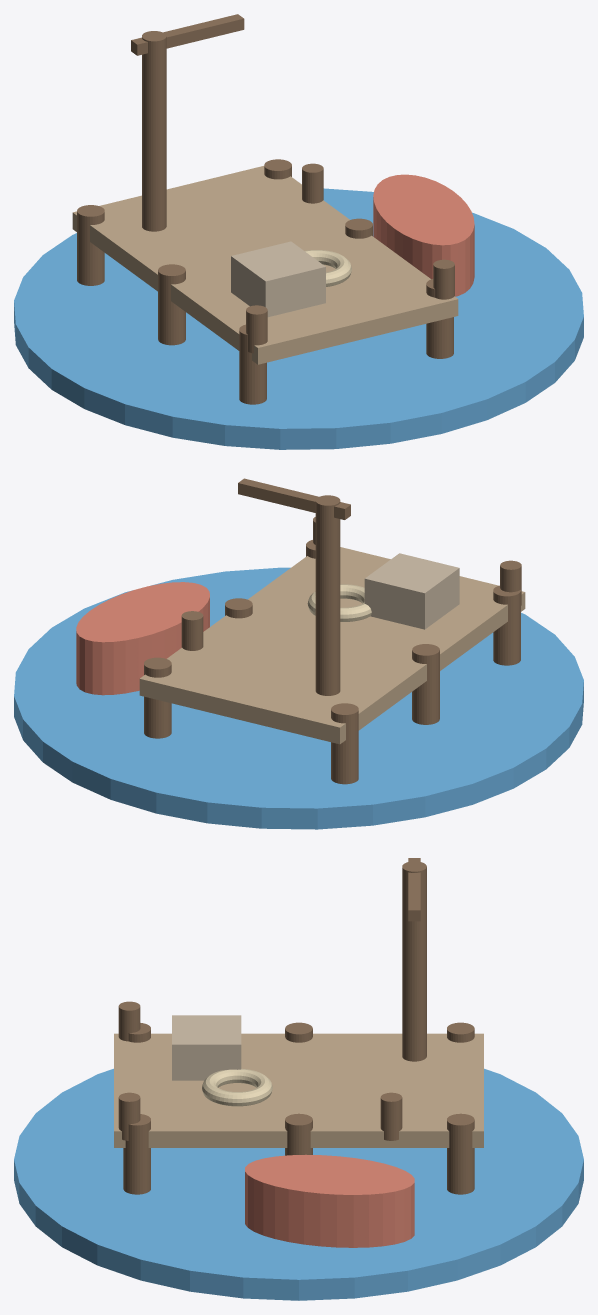
File: building_dock.glb
3 views of the same model, one above another, from view 1: azimuth 30°, elevation 25°; view 2: azimuth 150°, elevation 25°; view 3: azimuth 270°, elevation 25° (orthographic).
Visible parts, largest first — view 1: Cylinder, Cube, Cylinder.010, Cube.003, Cylinder.011, Cylinder.002, Cylinder.003, Cube.002, Cylinder.001, Cylinder.004, Torus, Cylinder.007 (+2 smaller); view 2: Cylinder, Cube, Cylinder.010, Cube.003, Cylinder.011, Cylinder.003, Cylinder.002, Cylinder.001, Cube.002, Cylinder.006, Torus, Cylinder.009 (+2 smaller); view 3: Cylinder, Cube, Cylinder.010, Cylinder.011, Cube.003, Cylinder.006, Torus, Cylinder.004, Cylinder.005, Cylinder.009, Cylinder.008, Cylinder.007 (+1 smaller).
Part boxes in pixels (box(x1,y1,x2,y2)): Cylinder: box(14, 188, 583, 449); Cube: box(72, 166, 458, 364); Cylinder.010: box(373, 174, 474, 296); Cube.003: box(231, 241, 325, 317); Cylinder.011: box(142, 31, 166, 231); Cylinder.002: box(158, 264, 185, 345); Cylinder.003: box(77, 205, 104, 285); Cube.002: box(131, 14, 244, 55); Cylinder.001: box(239, 324, 266, 404); Cylinder.004: box(426, 279, 453, 358); Torus: box(305, 250, 351, 286); Cylinder.007: box(246, 305, 267, 353); Cylinder: box(14, 567, 583, 829); Cube: box(139, 547, 525, 744); Cylinder.010: box(76, 582, 209, 695); Cube.003: box(364, 553, 459, 629); Cylinder.011: box(315, 495, 340, 695); Cylinder.003: box(331, 703, 358, 784); Cylinder.002: box(412, 644, 439, 724); Cylinder.001: box(493, 585, 520, 665); Cube.002: box(238, 478, 350, 519); Cylinder.006: box(144, 657, 171, 738); Torus: box(307, 584, 371, 621); Cylinder.009: box(181, 611, 203, 650); Cylinder: box(14, 1068, 583, 1300); Cube: box(114, 1033, 483, 1147); Cylinder.010: box(245, 1154, 414, 1247); Cylinder.011: box(402, 861, 426, 1061); Cube.003: box(172, 1015, 241, 1080); Cylinder.006: box(447, 1113, 474, 1194); Torus: box(202, 1068, 272, 1106); Cylinder.004: box(123, 1114, 150, 1194); Cylinder.005: box(285, 1113, 312, 1155); Cylinder.009: box(380, 1092, 402, 1140); Cylinder.008: box(118, 1092, 140, 1140); Cylinder.007: box(118, 1001, 140, 1041).
Size of the model in its own units: 3.7 by 2.02 by 3.7.
